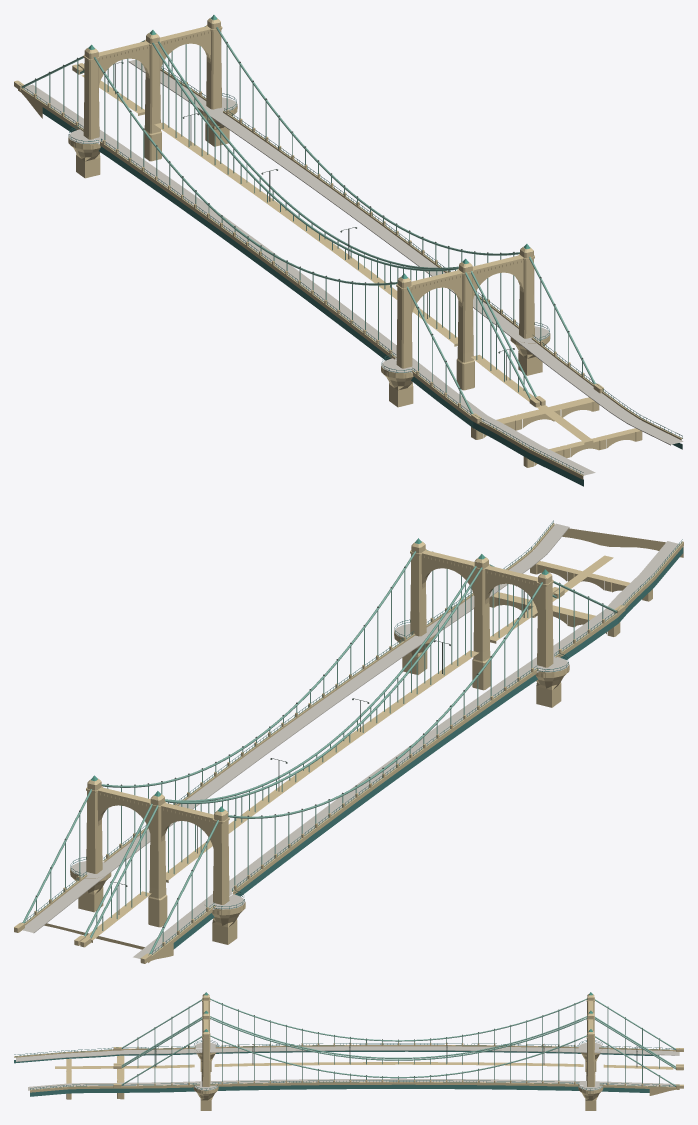
File: msp-hennepin-avenue-bridge.detail.glb
3 renders of one model, top to bottom at view 1: azimuth 30°, elevation 25°; view 2: azimuth 150°, elevation 25°; view 3: azimuth 270°, elevation 25°, orthographic. The views are drawn at different scales.
Parts seen in each view (by area): view 1: Hennepin Avenue Bridge; view 2: Hennepin Avenue Bridge; view 3: Hennepin Avenue Bridge.
Boxes of the visible parts, x1,y1,x2,y2 form: Hennepin Avenue Bridge: [14, 15, 683, 486]; Hennepin Avenue Bridge: [14, 520, 683, 963]; Hennepin Avenue Bridge: [14, 992, 683, 1110].
Size of the model in its own units: 57.7 by 43 by 331.
